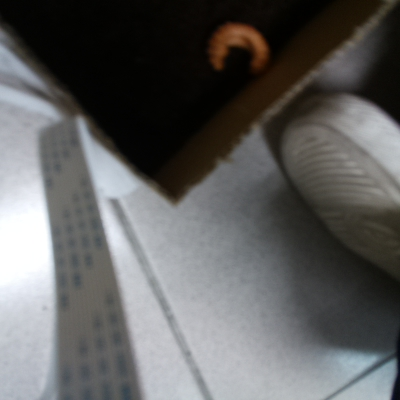eggs: (203, 19, 271, 78)
